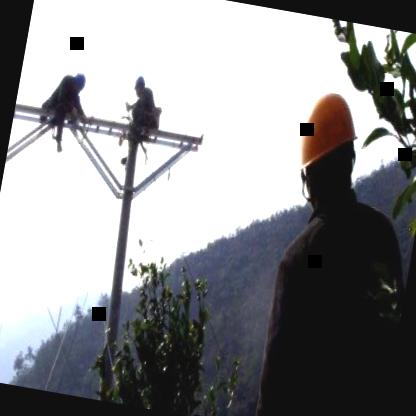helmet: (283, 78, 373, 224), (68, 68, 90, 97), (130, 71, 148, 101)
